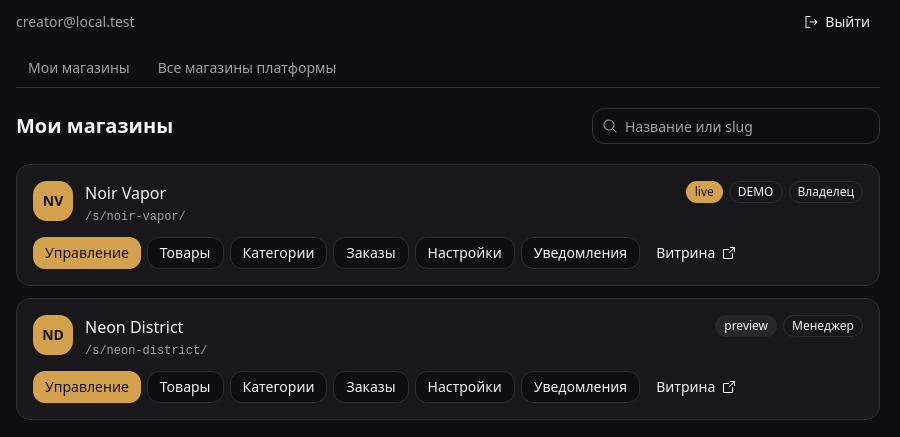
Test: Мои магазины › shows own shops with status, storefront path and section links; search narrows the list
This screenshot has width=900, height=437.
Check: the number of list items with test id "my-shop" is 2, box x1=16 y1=164 x2=880 y2=286; x1=16 y1=298 x2=880 y2=420
Check: the list item with test id "my-shop" shows "live", box x1=695 y1=183 x2=714 y2=200
Type "neon" into the search field named "Поиск магазинов". click: (736, 126)
box: x1=592 y1=108 x2=880 y2=144
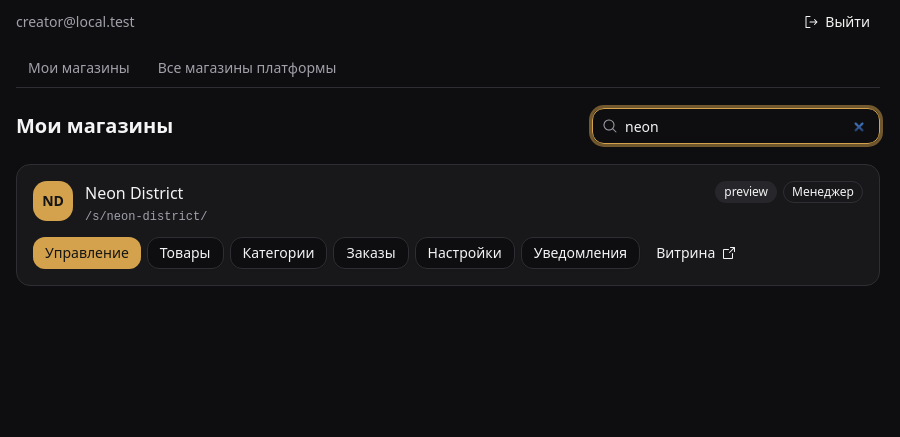
Check: the number of list items with test id "my-shop" is 1, box x1=16 y1=164 x2=880 y2=286
Replace the text in the search field named "Поиск магазинов" with "zzz". click: (736, 126)
box: x1=592 y1=108 x2=880 y2=144
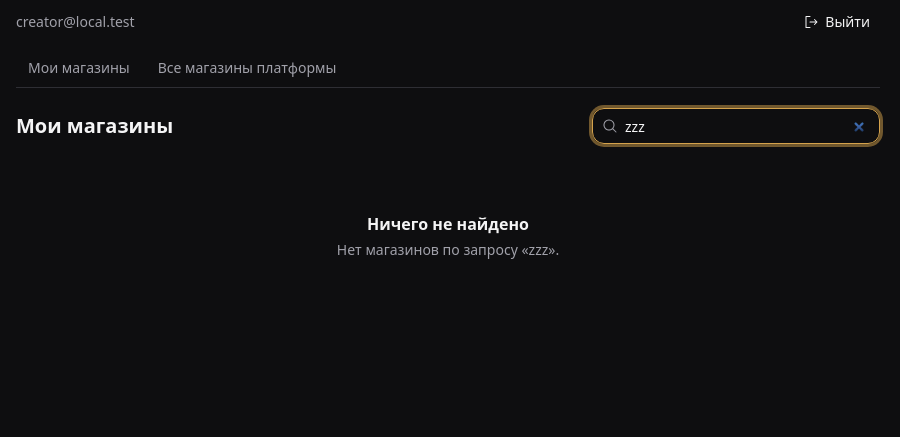
Check: the text "Ничего не найдено" is shown, box x1=367 y1=213 x2=529 y2=235
